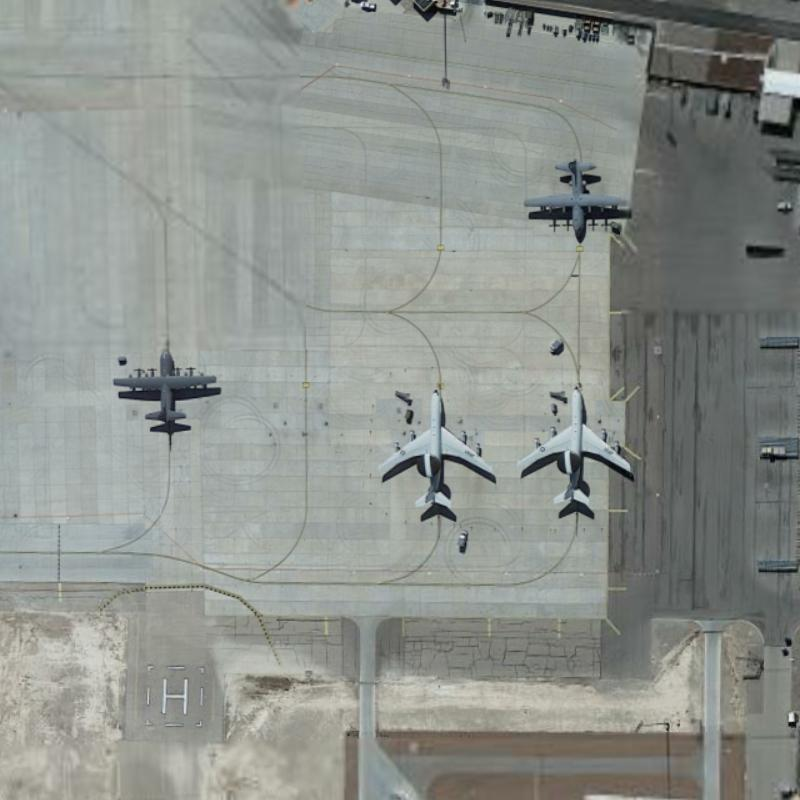A2: (516, 154, 639, 242), (109, 342, 224, 431)
A7: (368, 381, 496, 515), (514, 378, 635, 513)
